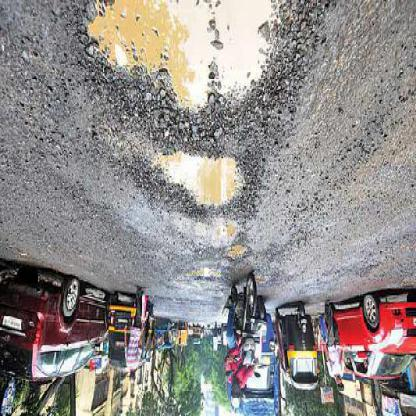pothole: (70, 5, 318, 140), (143, 157, 260, 222), (212, 223, 241, 249), (225, 244, 251, 269), (192, 266, 225, 285)
